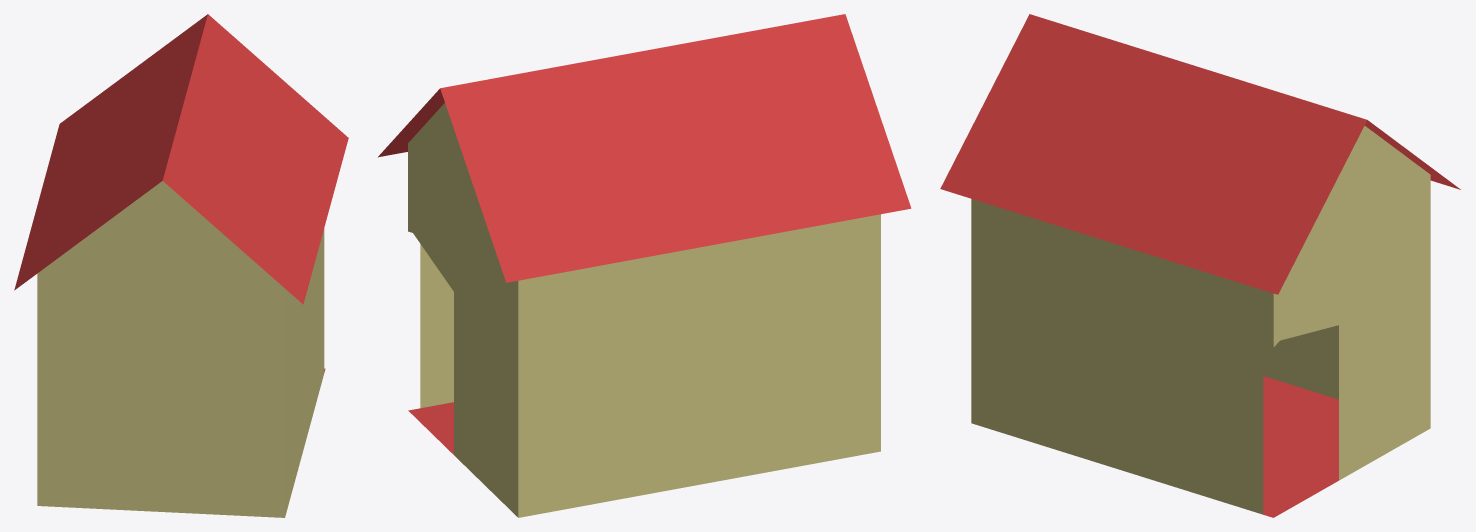
3 renders of one model, left to right at view 1: azimuth 30°, elevation 25°; view 2: azimuth 150°, elevation 25°; view 3: azimuth 270°, elevation 25°, orthographic. The views are drawn at different scales.
Size of the model in its own units: 22.43 by 23.48 by 17.9.
